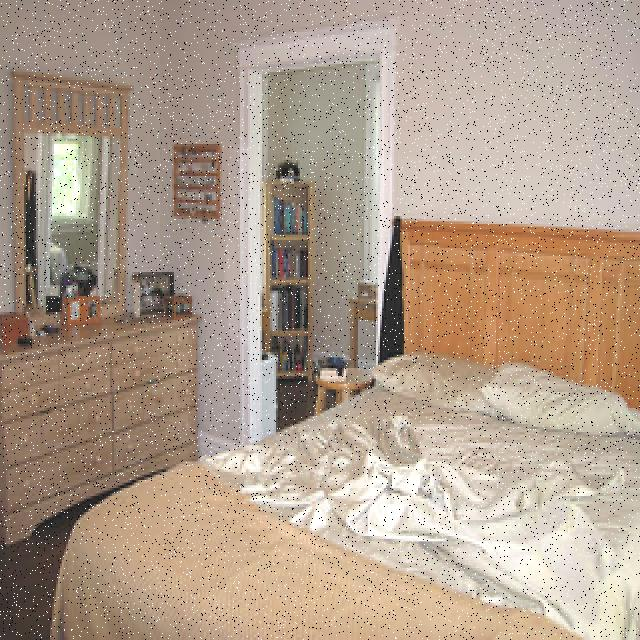bed: (132, 236, 638, 640)
